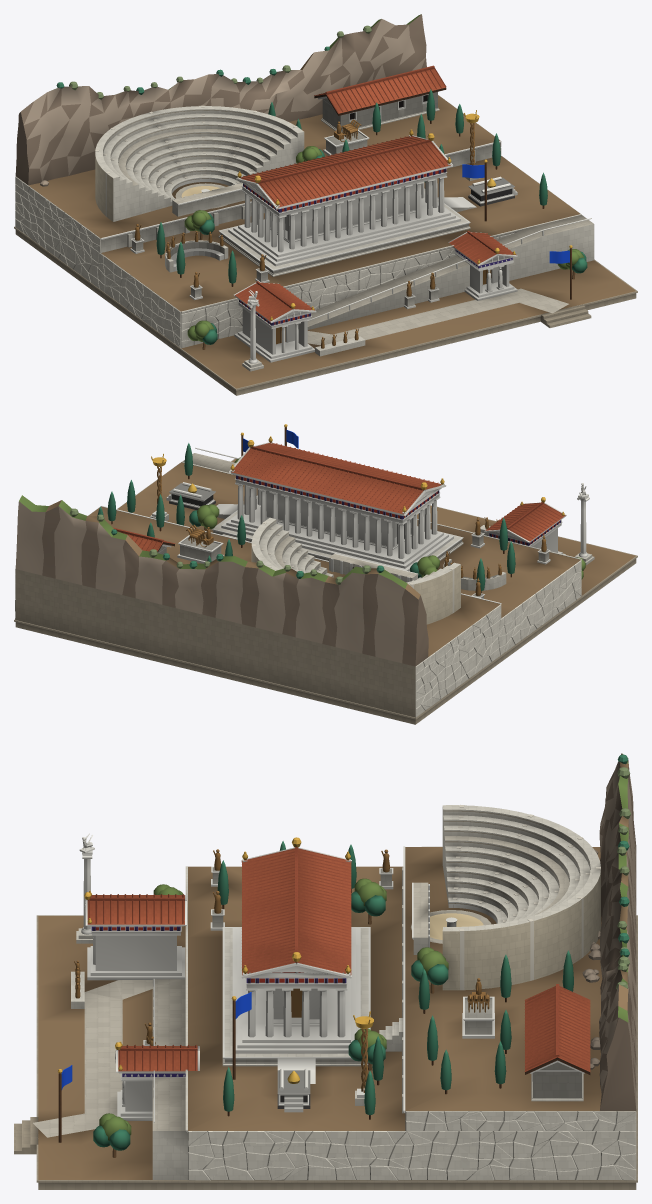
File: lm_delfi.glb
3 views of the same model, one above another, from view 1: azimuth 30°, elevation 25°; view 2: azimuth 150°, elevation 25°; view 3: azimuth 270°, elevation 25° (orthographic). The views are drawn at different scales.
Visible parts, largest first — view 1: lm_delfi; view 2: lm_delfi; view 3: lm_delfi.
Boxes of the visible parts, x1=… form: lm_delfi: x1=14, y1=14, x2=637, y2=395; lm_delfi: x1=14, y1=424, x2=637, y2=724; lm_delfi: x1=14, y1=753, x2=637, y2=1189.
Size of the model in its own units: 2.31 by 0.8016 by 2.3.
1 material, 1 textured.
